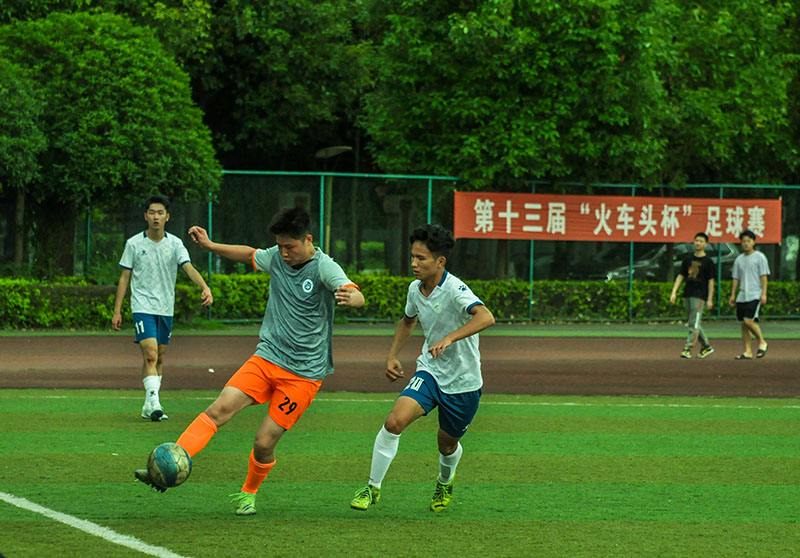football: (146, 443, 192, 487)
